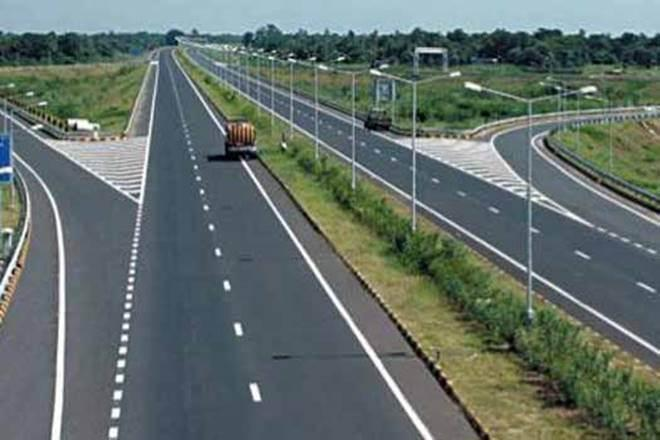car: (220, 114, 260, 162), (364, 104, 394, 132)
